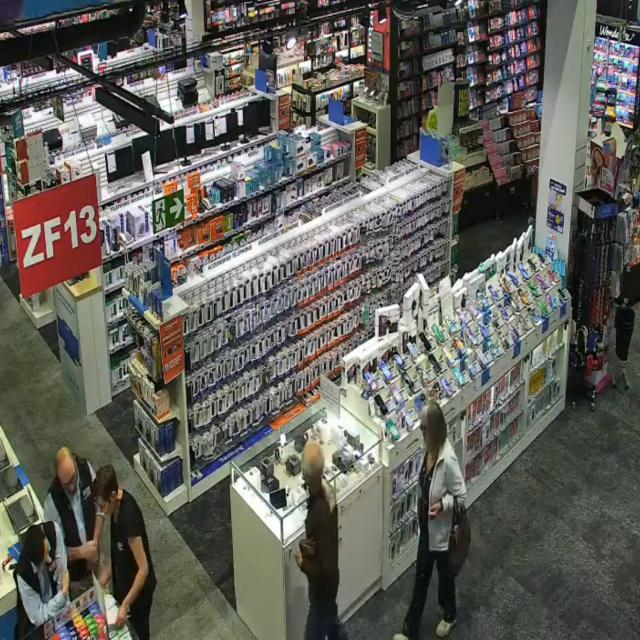bags: (449, 498, 471, 575)
hands: (82, 540, 99, 563), (115, 604, 128, 626), (428, 500, 442, 519), (99, 567, 110, 589), (62, 571, 70, 596), (295, 550, 302, 567)
person: (394, 401, 466, 639), (94, 465, 156, 639), (296, 444, 346, 639), (45, 448, 104, 599), (15, 522, 69, 639)
